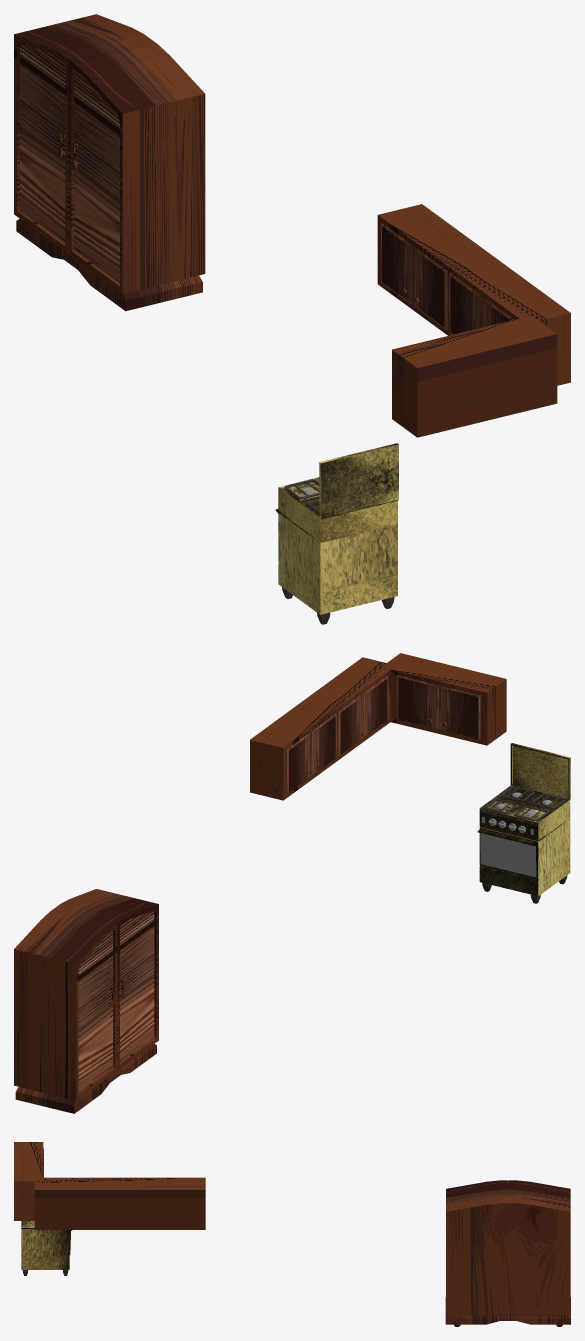
Rendered from Quarto_interagivel.fbx.
3 views of the same model, one above another, from view 1: azimuth 30°, elevation 25°; view 2: azimuth 150°, elevation 25°; view 3: azimuth 270°, elevation 25° (orthographic). The views are drawn at different scales.
Visible parts, largest first — view 1: Guarda_Roupa, BalcãoCozinha.001, fogao, Guarda_Roupa.001, Guarda_Roupa.002, Porta_BalcãoCozinha.002, Porta_BalcãoCozinha.001, Porta_BalcãoCozinha.004; view 2: Guarda_Roupa, BalcãoCozinha.001, fogao, Guarda_Roupa.002, Guarda_Roupa.001, fogao.001, Porta_BalcãoCozinha.006, Porta_BalcãoCozinha.005, Porta_BalcãoCozinha.001, Porta_BalcãoCozinha.003, Porta_BalcãoCozinha.004, Porta_BalcãoCozinha.002; view 3: Guarda_Roupa, BalcãoCozinha.001, fogao.
Part boxes in pixels (left/top/right/bottom): Guarda_Roupa: left=14, top=14, right=205, bottom=311; BalcãoCozinha.001: left=377, top=204, right=570, bottom=437; fogao: left=278, top=443, right=398, bottom=624; Guarda_Roupa.001: left=72, top=69, right=119, bottom=283; Guarda_Roupa.002: left=20, top=43, right=65, bottom=242; Porta_BalcãoCozinha.002: left=381, top=223, right=414, bottom=305; Porta_BalcãoCozinha.001: left=414, top=247, right=447, bottom=330; Porta_BalcãoCozinha.004: left=449, top=273, right=482, bottom=334; Guarda_Roupa: left=14, top=889, right=158, bottom=1113; BalcãoCozinha.001: left=250, top=653, right=506, bottom=800; fogao: left=479, top=743, right=570, bottom=903; Guarda_Roupa.002: left=78, top=931, right=114, bottom=1092; Guarda_Roupa.001: left=120, top=910, right=154, bottom=1062; fogao.001: left=477, top=829, right=536, bottom=877; Porta_BalcãoCozinha.006: left=396, top=675, right=438, bottom=729; Porta_BalcãoCozinha.005: left=439, top=686, right=480, bottom=740; Porta_BalcãoCozinha.001: left=311, top=713, right=336, bottom=776; Porta_BalcãoCozinha.003: left=363, top=676, right=388, bottom=738; Porta_BalcãoCozinha.004: left=338, top=694, right=362, bottom=756; Porta_BalcãoCozinha.002: left=286, top=732, right=310, bottom=794; Guarda_Roupa: left=445, top=1180, right=570, bottom=1326; BalcãoCozinha.001: left=14, top=1142, right=205, bottom=1229; fogao: left=21, top=1221, right=69, bottom=1275.
Size of the model in its own units: 251 by 224 by 803.
Materials: 5 (3 with a texture image).
